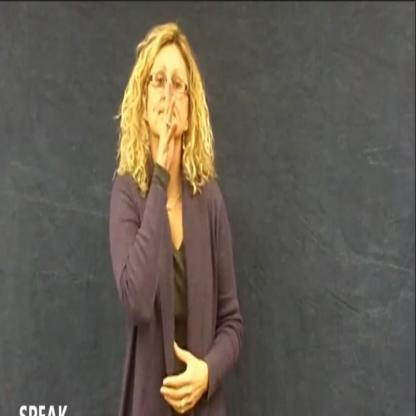Talk: (107, 22, 243, 416)
